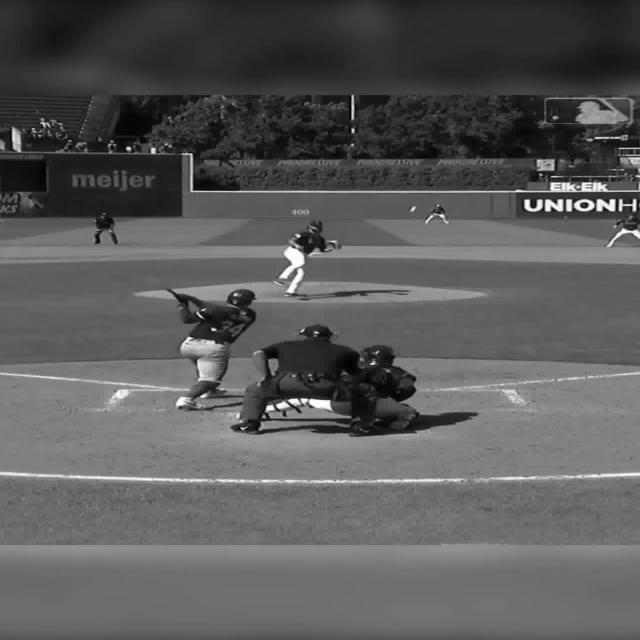baseball: (408, 206, 416, 212)
baseball_glove: (325, 240, 339, 249)
shoe: (389, 410, 418, 430), (174, 396, 208, 410), (230, 419, 260, 434), (348, 419, 374, 436), (200, 388, 226, 398), (284, 292, 308, 297), (271, 280, 285, 286), (284, 292, 298, 296)
